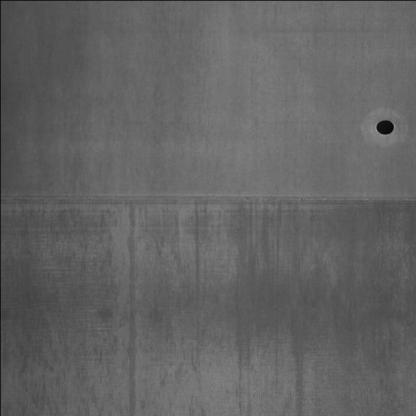punching_hole: (371, 116, 399, 145)
welding_line: (0, 185, 415, 213)
